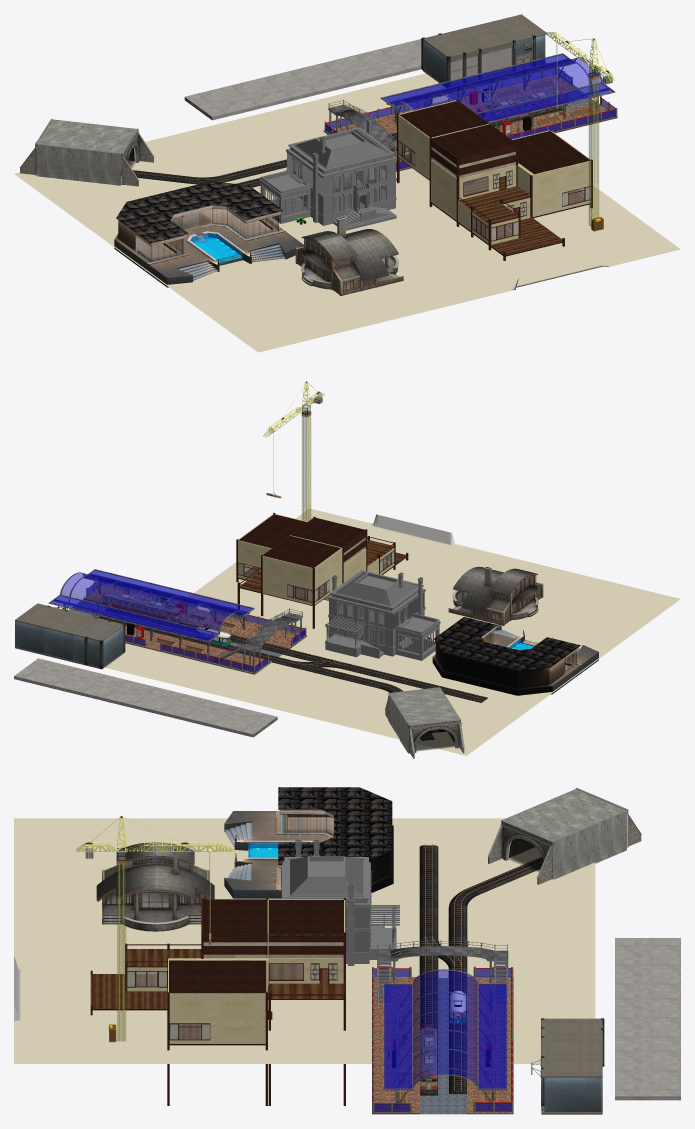
3 views of the same model, one above another, from view 1: azimuth 30°, elevation 25°; view 2: azimuth 150°, elevation 25°; view 3: azimuth 270°, elevation 25° (orthographic). The views are drawn at different scales.
Visible parts, largest first — view 1: Modern Beach House, Terrain 8,2, Terrain 9,2, Object (×6), A&M __ House 30 - Modern mansion (×3), Terrain 8,3, RODEX DINER 5 (×3), Terrain 9,3, _second spaces shop_LUTON Manor - REDGRAVE (v1.0) (×7), Texture Store, Tunnel half (×2), House 30 - Modern mansion (+4 smaller); view 2: Object (×5), Modern Beach House, Terrain 8,2, Terrain 8,3, Terrain 9,3, Terrain 9,2, RODEX DINER 5 (×3), Texture Store, A&M __ House 30 - Modern mansion (×2), House 30 - Modern mansion, _second spaces shop_LUTON Manor - REDGRAVE (v1.0) (×4), Tunnel half (×2) (+5 smaller); view 3: Modern Beach House, Object (×6), Terrain 9,2, Terrain 8,2, Terrain 8,3, Terrain 9,3, A&M __ House 30 - Modern mansion (×3), RODEX DINER 5 (×3), Texture Store, Tunnel half (×2), cobi lodge (×4), _second spaces shop_LUTON Manor - REDGRAVE (v1.0) (×5) (+9 smaller).
Part boxes in pixels (left/top/right/bottom): Modern Beach House: left=397, top=99, right=592, bottom=260; Terrain 8,2: left=136, top=220, right=468, bottom=352; Terrain 9,2: left=367, top=185, right=680, bottom=300; Object (×6): left=323, top=54, right=617, bottom=171; A&M __ House 30 - Modern mansion (×3): left=114, top=181, right=303, bottom=287; Terrain 8,3: left=14, top=122, right=312, bottom=263; RODEX DINER 5 (×3): left=184, top=39, right=421, bottom=120; Terrain 9,3: left=226, top=73, right=468, bottom=199; _second spaces shop_LUTON Manor - REDGRAVE (v1.0) (×7): left=259, top=127, right=397, bottom=230; Texture Store: left=421, top=14, right=546, bottom=87; Tunnel half (×2): left=37, top=119, right=136, bottom=185; House 30 - Modern mansion: left=114, top=205, right=285, bottom=264; Object (×5): left=51, top=570, right=306, bottom=674; Modern Beach House: left=236, top=513, right=408, bottom=628; Terrain 8,2: left=424, top=553, right=680, bottom=677; Terrain 8,3: left=281, top=651, right=573, bottom=755; Terrain 9,3: left=105, top=587, right=353, bottom=710; Terrain 9,2: left=202, top=508, right=494, bottom=617; RODEX DINER 5 (×3): left=14, top=658, right=277, bottom=737; Texture Store: left=15, top=603, right=125, bottom=669; A&M __ House 30 - Modern mansion (×2): left=434, top=617, right=598, bottom=693; House 30 - Modern mansion: left=432, top=625, right=582, bottom=695; _second spaces shop_LUTON Manor - REDGRAVE (v1.0) (×4): left=325, top=570, right=440, bottom=657; Tunnel half (×2): left=389, top=688, right=459, bottom=753; Modern Beach House: left=90, top=898, right=345, bottom=1105; Object (×6): left=372, top=946, right=513, bottom=1114; Terrain 9,2: left=14, top=941, right=304, bottom=1063; Terrain 8,2: left=14, top=818, right=281, bottom=941; Terrain 8,3: left=371, top=818, right=595, bottom=941; Terrain 9,3: left=304, top=941, right=595, bottom=1063; A&M __ House 30 - Modern mansion (×3): left=224, top=787, right=392, bottom=898; RODEX DINER 5 (×3): left=615, top=938, right=680, bottom=1100; Texture Store: left=531, top=1018, right=604, bottom=1114; Tunnel half (×2): left=503, top=789, right=626, bottom=879; cobi lodge (×4): left=96, top=842, right=214, bottom=931; _second spaces shop_LUTON Manor - REDGRAVE (v1.0) (×5): left=284, top=856, right=399, bottom=965.
Size of what is drawn, in the model's own units: 155 by 72.67 by 147.
331 materials, 302 textured.
